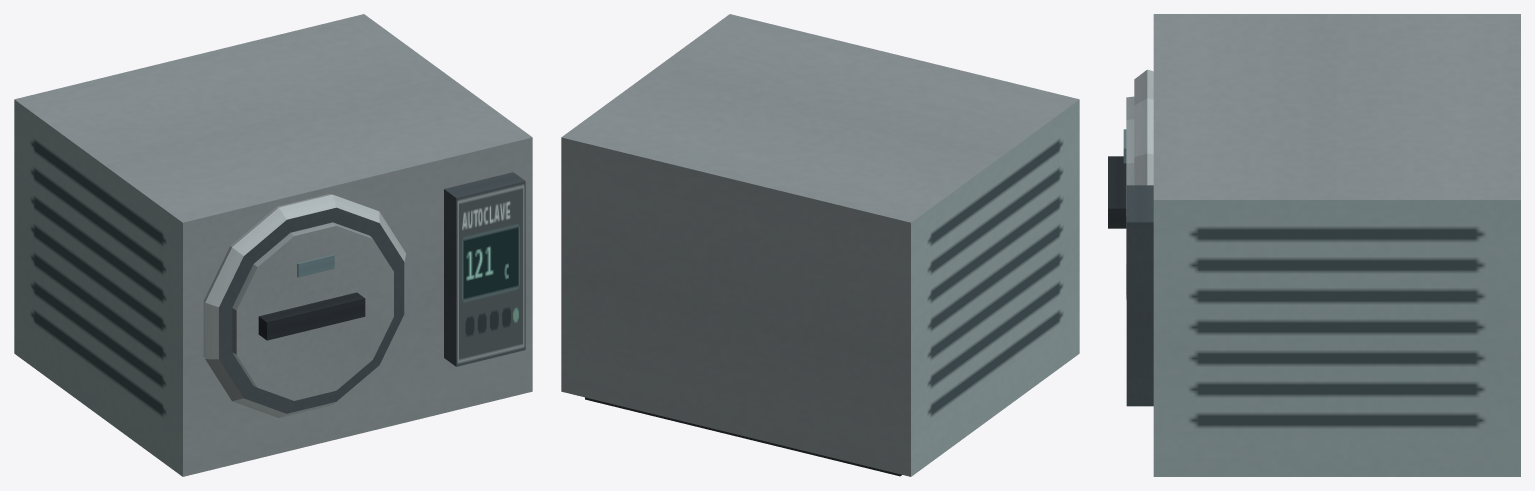
The model's file is Laboratory_Autoclave.glb.
The picture shows the model from 3 angles, left to right: view 1: azimuth 30°, elevation 25°; view 2: azimuth 150°, elevation 25°; view 3: azimuth 270°, elevation 25°; orthographic projection. The views are drawn at different scales.
Visible parts, largest first — view 1: Laboratory_Autoclave; view 2: Laboratory_Autoclave; view 3: Laboratory_Autoclave.
Part boxes in pixels (bbox=[...]): Laboratory_Autoclave: bbox=[14, 14, 532, 476]; Laboratory_Autoclave: bbox=[561, 14, 1079, 476]; Laboratory_Autoclave: bbox=[1108, 14, 1520, 476].
Bounding box in the file's own units: 0.605 × 0.434 × 0.5675.
1 material, 1 textured.
